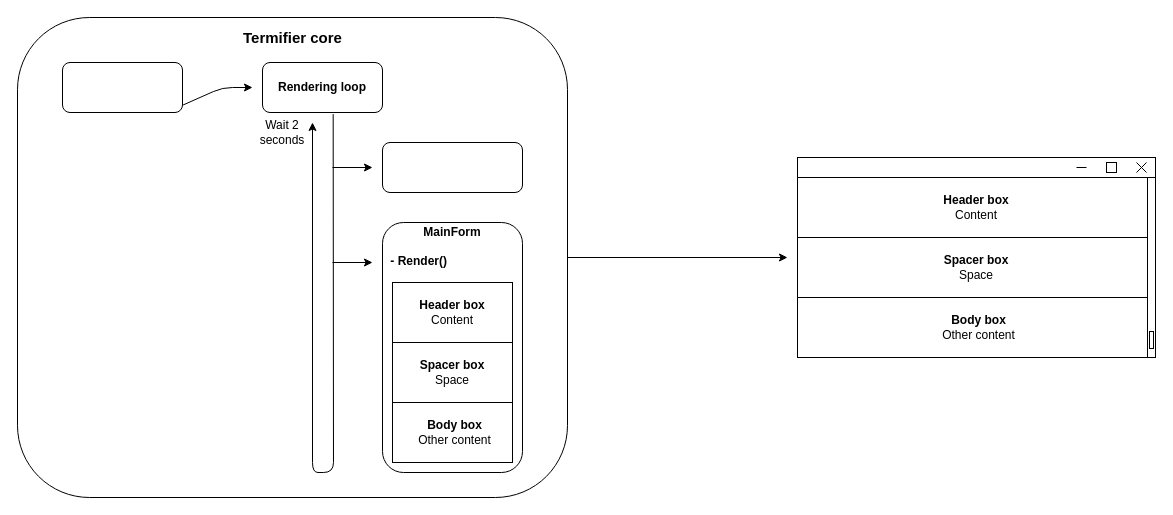
This 1173x515 diagram has some shape labels left out. The shapes that lost their labels are listed below. From the top down, each one's centre as x and y in pixels, then its label:
point 122,87: App Run() -
point 452,167: Clear terminal
point 976,167: Application name
